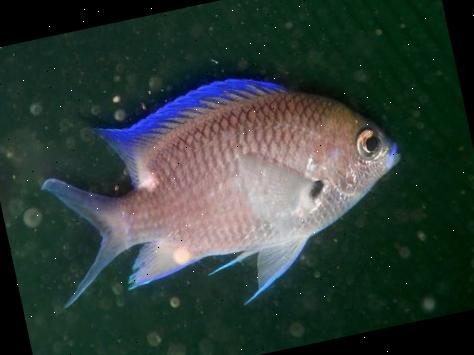fish: (25, 45, 425, 341)
